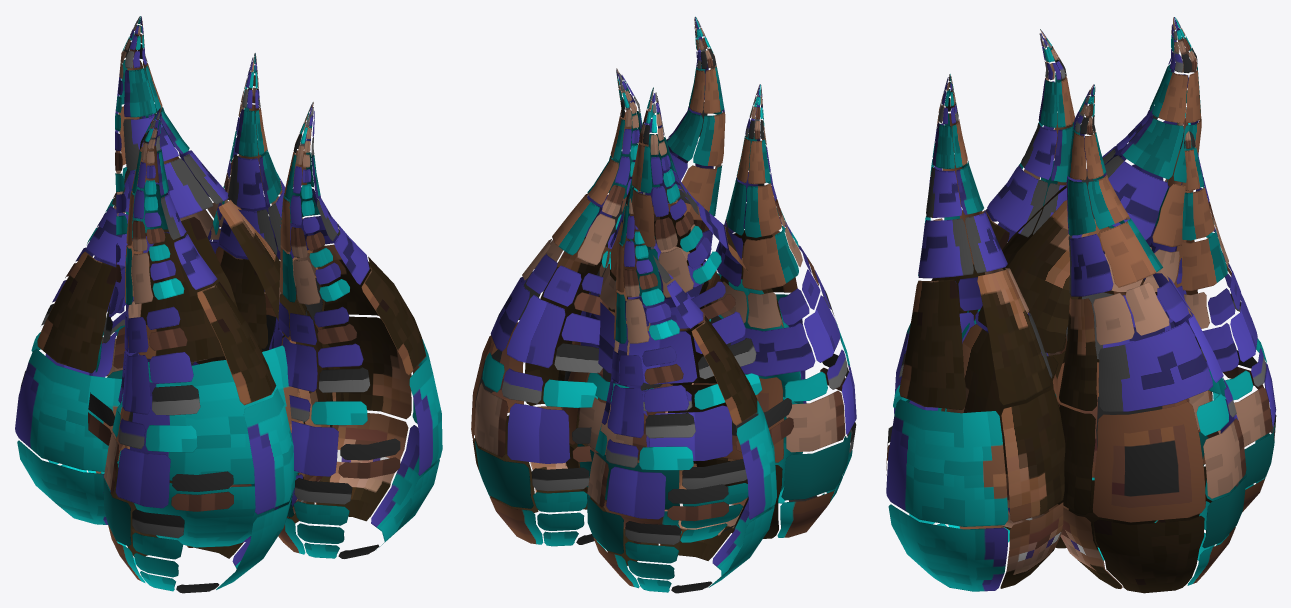
3 renders of one model, left to right at view 1: azimuth 30°, elevation 25°; view 2: azimuth 150°, elevation 25°; view 3: azimuth 270°, elevation 25°, orthographic. The views are drawn at different scales.
Parts seen in each view (by area): view 1: flame_NurbsPath.015; view 2: flame_NurbsPath.015; view 3: flame_NurbsPath.015.
Boxes of the visible parts, bbox=[...] form: flame_NurbsPath.015: bbox=[15, 16, 442, 593]; flame_NurbsPath.015: bbox=[471, 16, 856, 593]; flame_NurbsPath.015: bbox=[886, 17, 1276, 593].
Bounding box in the file's own units: 0.7577 × 1.17 × 0.7988.
